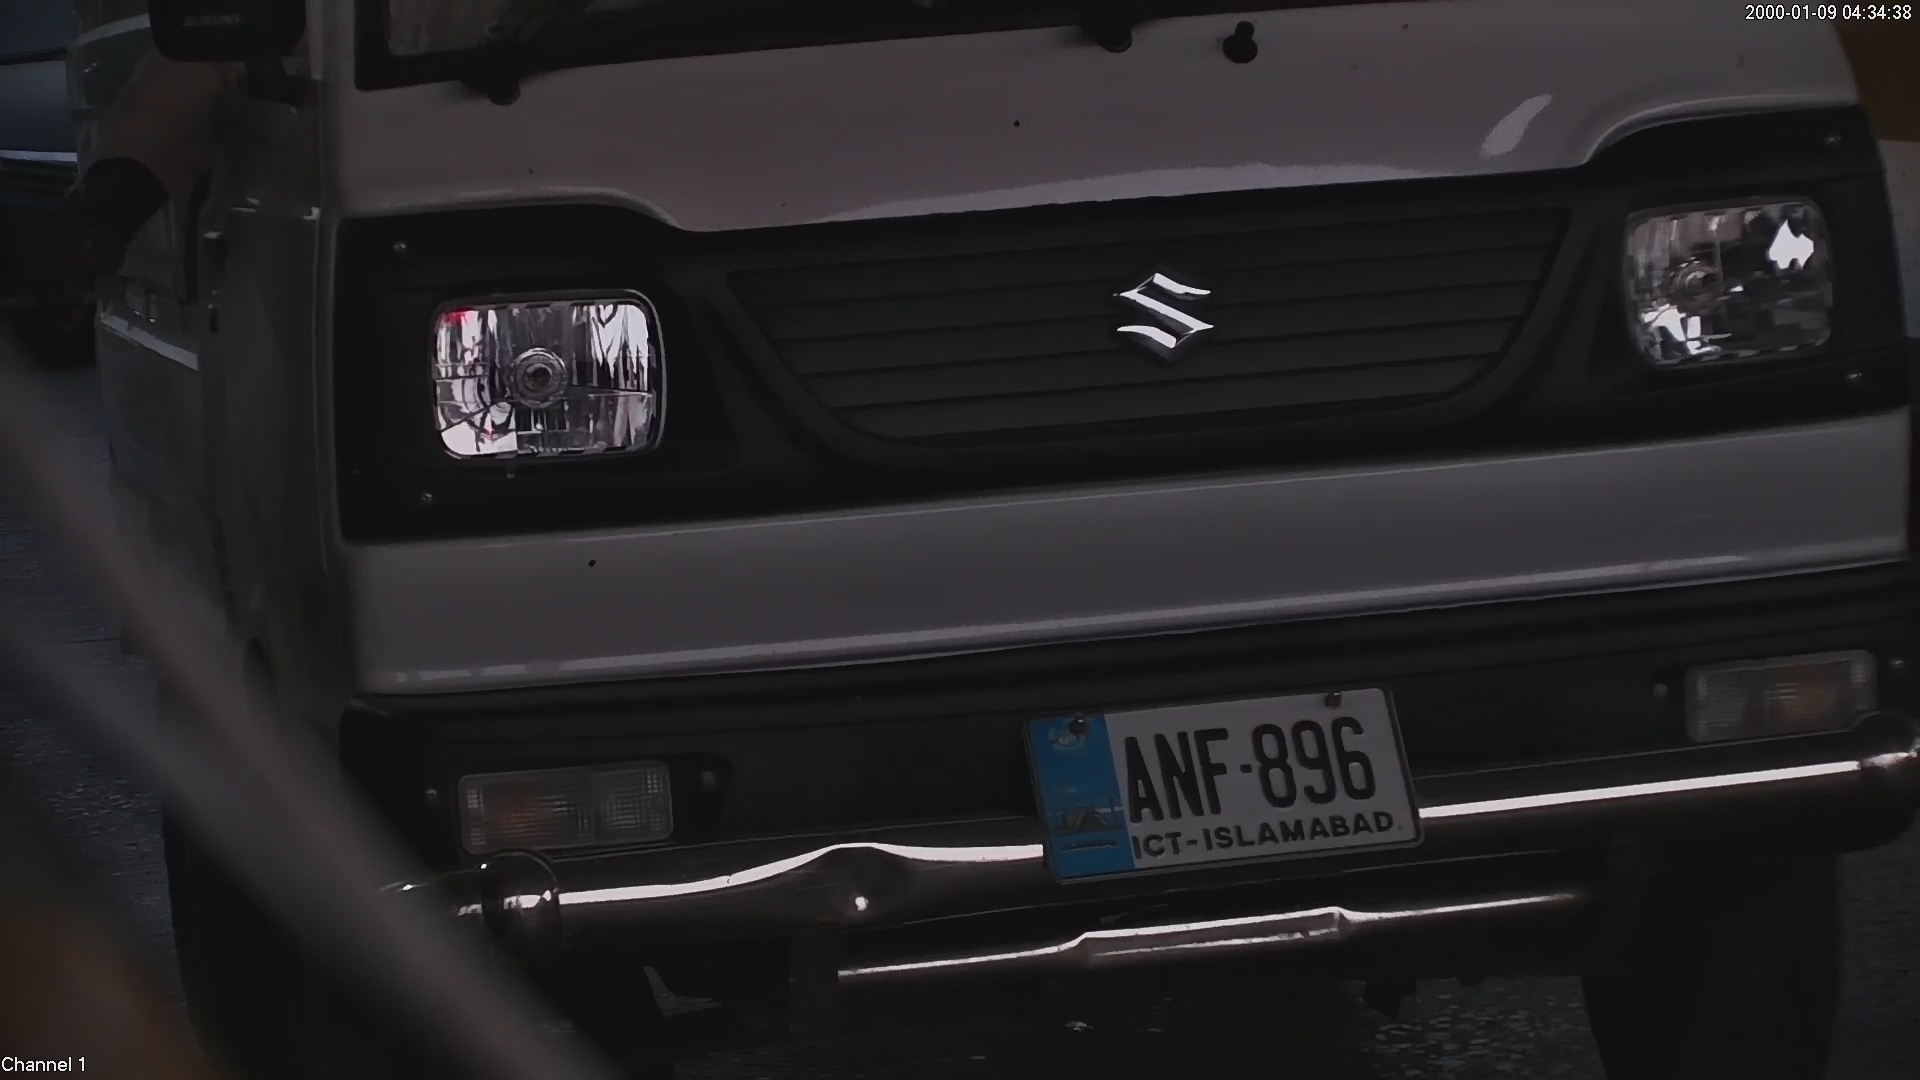Number_Plate: (1019, 679, 1430, 879)
Undefined: (406, 268, 673, 464), (1595, 173, 1845, 377), (445, 746, 691, 862), (1676, 629, 1884, 742), (1108, 253, 1213, 357)
